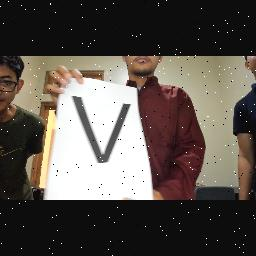v: (69, 90, 135, 166)
